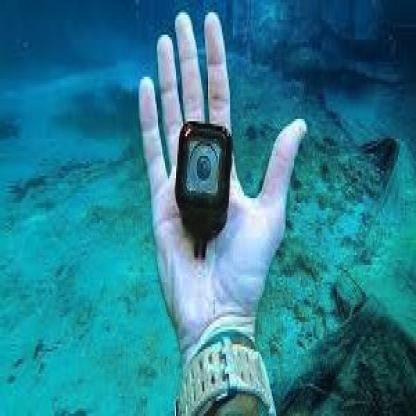electronics: (175, 121, 234, 245)
